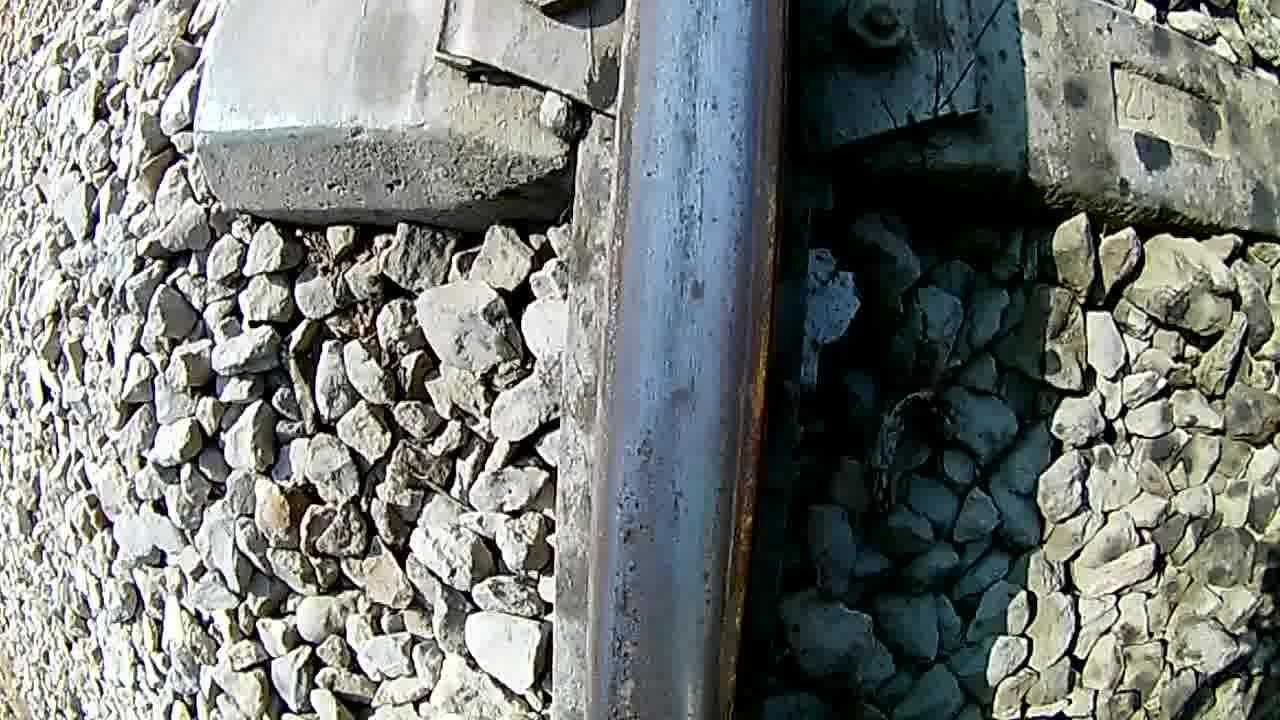crack: (595, 3, 783, 720)
